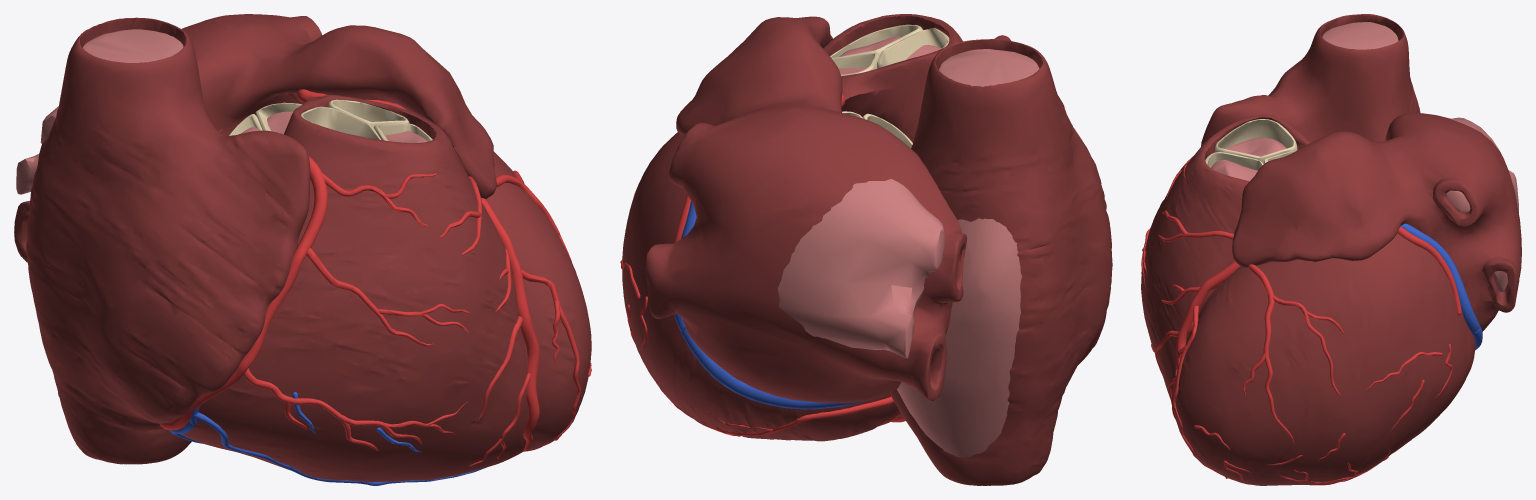
File: heart-v2.glb
The picture shows the model from 3 angles, left to right: view 1: azimuth 30°, elevation 25°; view 2: azimuth 150°, elevation 25°; view 3: azimuth 270°, elevation 25°; orthographic projection. The views are drawn at different scales.
Parts seen in each view (by area): view 1: heart_wall_ventricles, heart_wall_right_atrium, heart_wall_left_atrium, heart_coronary_arteries, heart_cavity_right_atrium, heart_coronary_veins, heart_cusp_pv_right_anterior, heart_cusp_pv_posterior, heart_cavity_left_atrium; view 2: heart_wall_left_atrium, heart_wall_right_atrium, heart_wall_ventricles, heart_cavity_left_atrium, heart_cavity_right_atrium, heart_coronary_veins, heart_coronary_arteries, heart_cusp_pv_right_anterior, heart_cusp_pv_left_anterior, heart_cavity_right_ventricle, heart_cusp_pv_posterior; view 3: heart_wall_ventricles, heart_wall_left_atrium, heart_wall_right_atrium, heart_coronary_arteries, heart_cusp_pv_right_anterior, heart_cavity_right_atrium, heart_cavity_right_ventricle, heart_coronary_veins, heart_cavity_left_atrium, heart_cusp_pv_left_anterior.
Part boxes in pixels (box(x1,y1,x2,y2)): heart_wall_ventricles: box(170, 93, 591, 482); heart_wall_right_atrium: box(26, 17, 310, 464); heart_wall_left_atrium: box(14, 14, 496, 261); heart_coronary_arteries: box(160, 89, 591, 467); heart_cavity_right_atrium: box(82, 29, 183, 62); heart_coronary_veins: box(169, 103, 486, 485); heart_cusp_pv_right_anterior: box(301, 106, 381, 139); heart_cusp_pv_posterior: box(328, 99, 409, 127); heart_cavity_left_atrium: box(16, 106, 58, 194); heart_wall_left_atrium: box(645, 16, 966, 403); heart_wall_right_atrium: box(889, 35, 1112, 485); heart_wall_ventricles: box(622, 14, 962, 441); heart_cavity_left_atrium: box(777, 179, 944, 358); heart_cavity_right_atrium: box(897, 49, 1039, 457); heart_coronary_veins: box(674, 201, 863, 409); heart_coronary_arteries: box(620, 94, 905, 436); heart_cusp_pv_right_anterior: box(877, 28, 949, 68); heart_cusp_pv_left_anterior: box(830, 24, 922, 58); heart_cavity_right_ventricle: box(839, 36, 941, 74); heart_cusp_pv_posterior: box(832, 52, 879, 76); heart_wall_ventricles: box(1141, 114, 1475, 485); heart_wall_left_atrium: box(1232, 112, 1521, 331); heart_wall_right_atrium: box(1201, 14, 1420, 146); heart_coronary_arteries: box(1141, 156, 1461, 485); heart_cusp_pv_right_anterior: box(1215, 119, 1297, 163); heart_cavity_right_atrium: box(1322, 22, 1398, 49); heart_cavity_right_ventricle: box(1211, 137, 1286, 181); heart_coronary_veins: box(1400, 223, 1482, 350); heart_cavity_left_atrium: box(1446, 117, 1518, 292); heart_cusp_pv_left_anterior: box(1205, 152, 1263, 170).
Bounding box in the file's own units: 0.1157 × 0.1053 × 0.1064.
